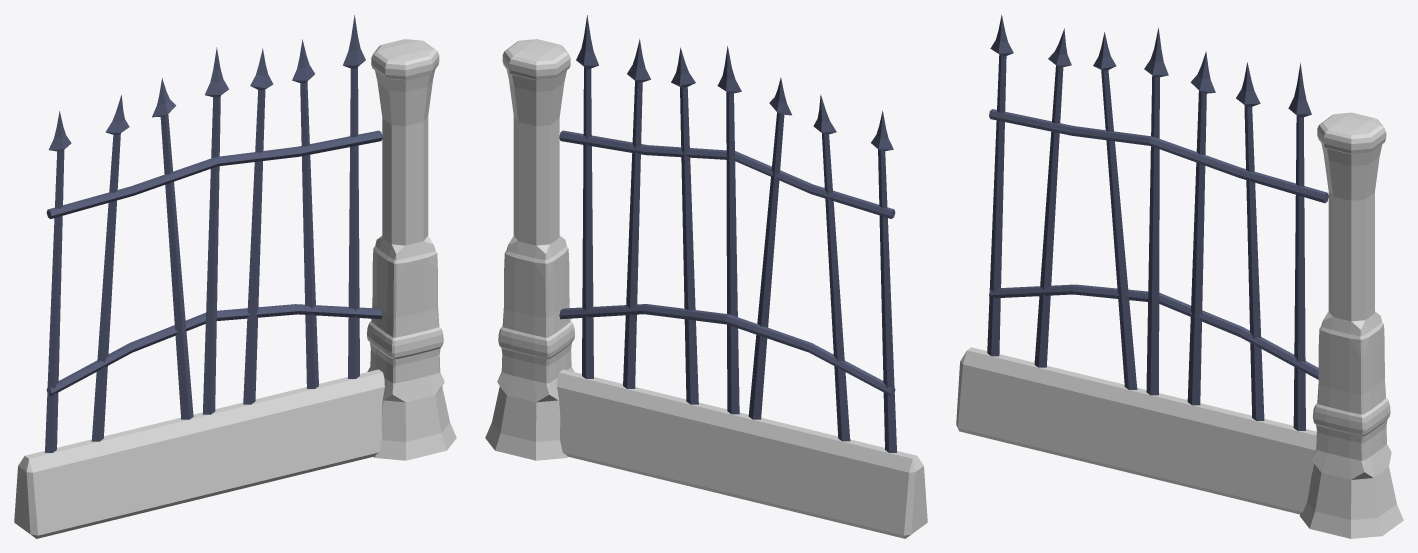
Rendered from gates.fbx.
3 views of the same model, side by side, from view 1: azimuth 30°, elevation 25°; view 2: azimuth 150°, elevation 25°; view 3: azimuth 330°, elevation 25° (orthographic).
Parts seen in each view (by area): view 1: GatePillar; view 2: GatePillar; view 3: GatePillar.
Boxes of the visible parts, left/top/right/bottom form: GatePillar: left=14, top=15, right=456, bottom=538; GatePillar: left=485, top=15, right=927, bottom=538; GatePillar: left=956, top=14, right=1403, bottom=538.
Size of the model in its own units: 221 by 219 by 38.16.
